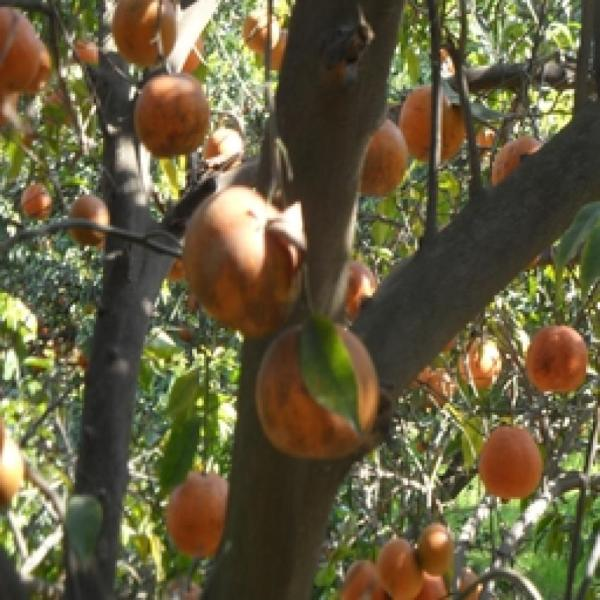Canker: (170, 184, 310, 336), (247, 317, 386, 469), (132, 68, 214, 156), (344, 110, 409, 205), (398, 84, 470, 167), (520, 321, 595, 397), (482, 132, 562, 196), (457, 334, 511, 397), (334, 256, 378, 320)
Sana: (163, 467, 240, 554), (0, 6, 65, 103), (476, 419, 546, 503), (373, 538, 432, 592), (61, 193, 117, 244), (415, 520, 460, 570), (16, 179, 56, 218)
